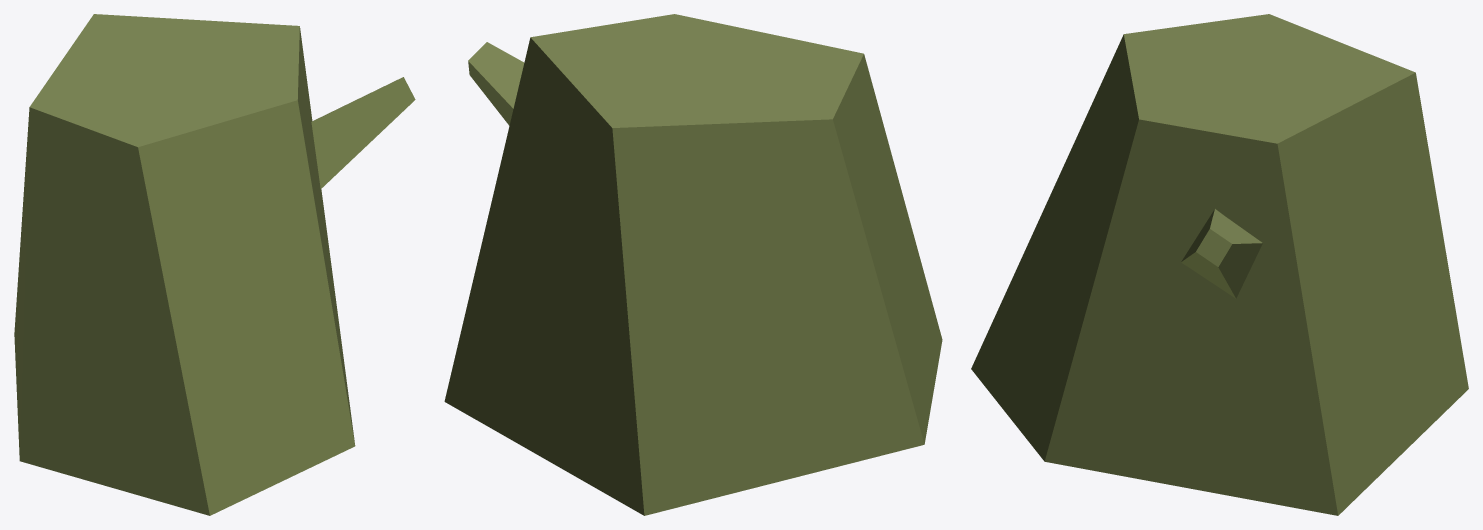
File: StumpAutumn1_Alt4.fbx
3 views of the same model, side by side, from view 1: azimuth 30°, elevation 25°; view 2: azimuth 150°, elevation 25°; view 3: azimuth 270°, elevation 25° (orthographic). The views are drawn at different scales.
Parts seen in each view (by area): view 1: StumpAutumn1_Alt4; view 2: StumpAutumn1_Alt4; view 3: StumpAutumn1_Alt4.
Boxes of the visible parts, x1,y1,x2,y2 form: StumpAutumn1_Alt4: (14,14,415,515); StumpAutumn1_Alt4: (444,14,942,515); StumpAutumn1_Alt4: (971,14,1468,515).
Size of the model in its own units: 0.5186 by 0.3998 by 0.5206.
